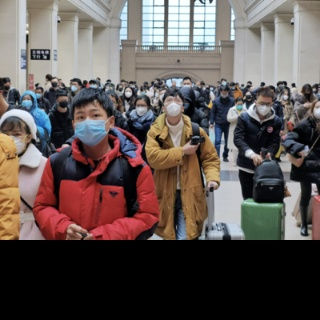with_mask: (75, 108, 108, 148), (3, 129, 26, 155), (164, 96, 183, 117), (256, 100, 272, 116), (136, 103, 148, 116), (21, 96, 32, 110), (313, 104, 320, 120), (57, 98, 68, 108), (71, 82, 79, 92), (34, 90, 41, 100), (183, 81, 191, 89), (236, 103, 243, 111), (245, 92, 252, 100), (304, 90, 311, 98), (125, 90, 132, 97), (52, 80, 58, 88), (220, 92, 228, 98), (282, 92, 288, 100), (89, 82, 96, 88), (155, 91, 160, 98), (140, 90, 146, 95), (222, 80, 227, 85), (232, 85, 236, 89), (313, 87, 316, 92), (210, 87, 213, 91)
